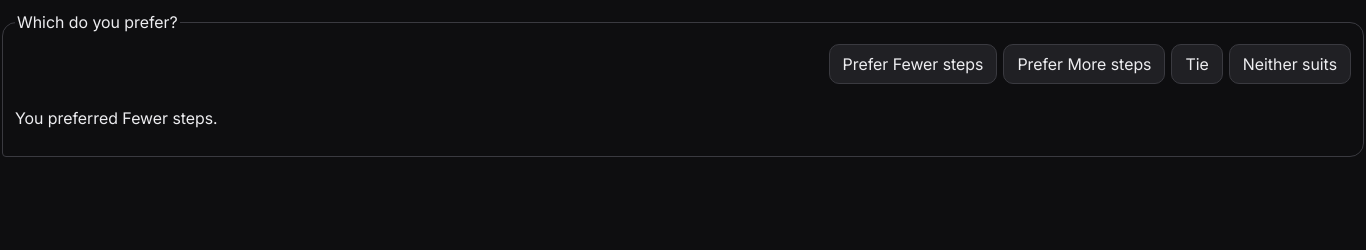
shows what was said before, and why a new saying was refused
Expected: the message reads "You preferred Fewer steps.", x1=15 y1=108 x2=218 y2=128
Click the button "Tie".
click(1197, 64)  # box x1=1172 y1=44 x2=1223 y2=84
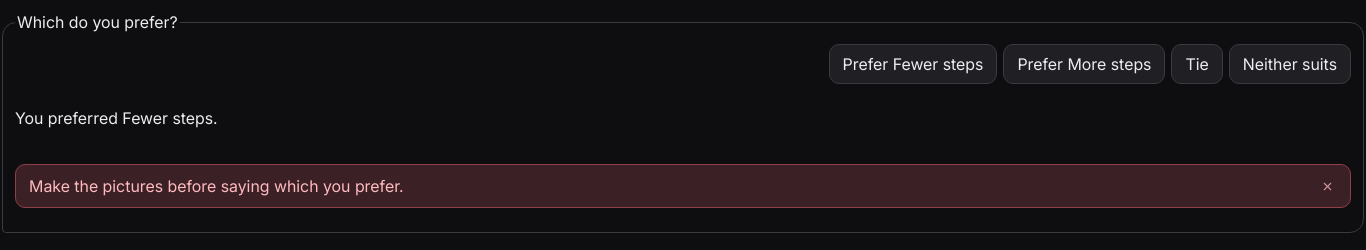
Expected: the message "You preferred Fewer steps." is shown, x1=15 y1=108 x2=218 y2=128
Now the text "Make the pictures before saying which you prefer." is shown, box x1=29 y1=176 x2=404 y2=196
